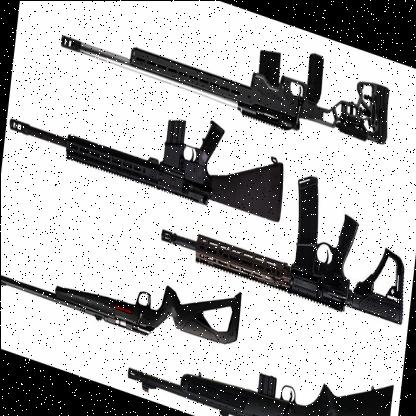rifle: (57, 0, 400, 174), (4, 54, 290, 233), (0, 212, 248, 371), (158, 188, 410, 335), (122, 332, 392, 416)
